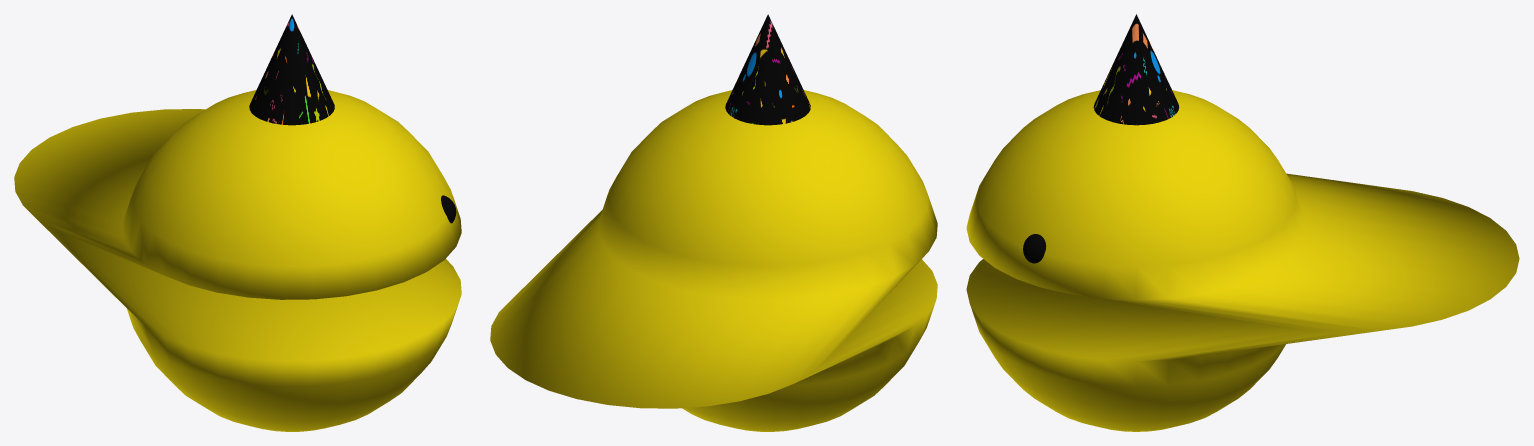
Rendered from suckman.glb.
3 views of the same model, side by side, from view 1: azimuth 30°, elevation 25°; view 2: azimuth 150°, elevation 25°; view 3: azimuth 270°, elevation 25° (orthographic).
Parts seen in each view (by area): view 1: Body, Cone; view 2: Body, Cone; view 3: Body, Cone, Eye.
Boxes of the visible parts, x1,y1,x2,y2 form: Body: (14,90,461,431); Cone: (249,14,334,125); Body: (490,90,937,431); Cone: (725,14,810,125); Body: (966,90,1519,431); Cone: (1093,14,1179,125); Eye: (1023,234,1046,263).
Bounding box in the file's own units: 2 × 2.56 × 3.19.
Materials: 3 (1 with a texture image).
